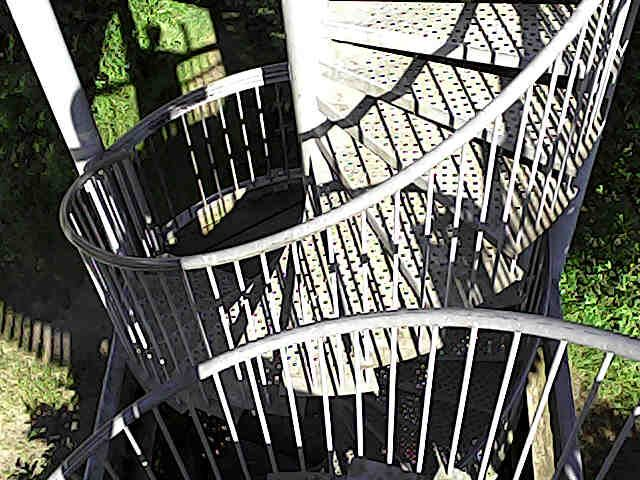tower: (58, 0, 639, 477)
